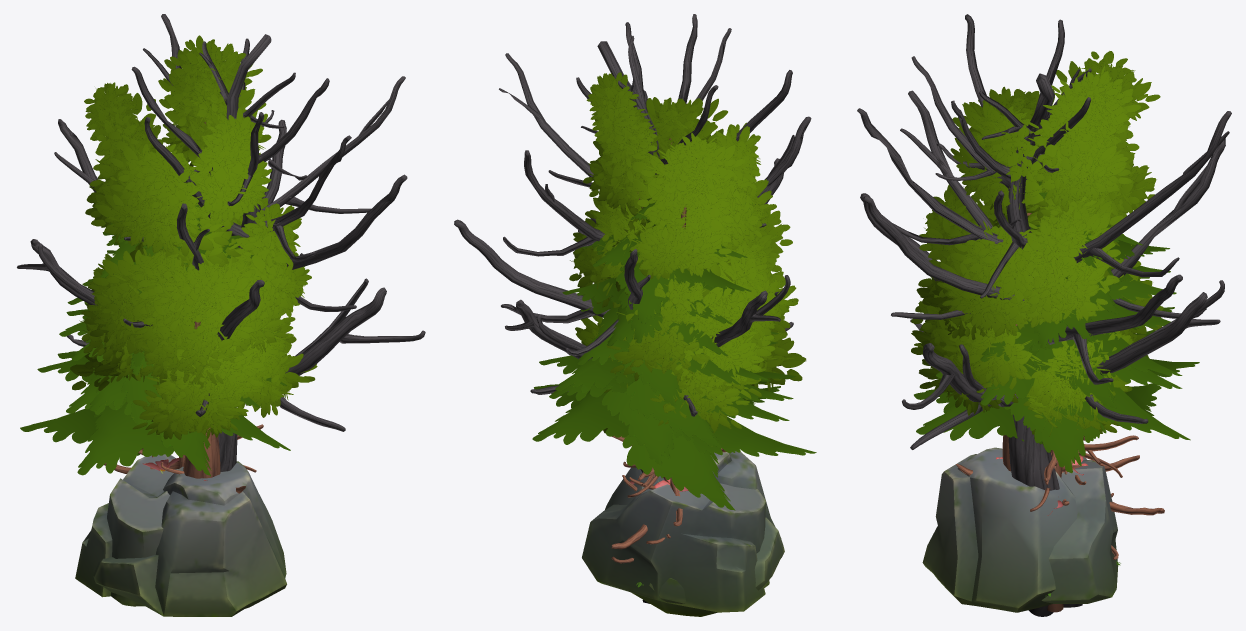
The model's file is nature.glb.
3 renders of one model, left to right at view 1: azimuth 30°, elevation 25°; view 2: azimuth 150°, elevation 25°; view 3: azimuth 270°, elevation 25°, orthographic. The views are drawn at different scales.
Parts seen in each view (by area): view 1: CommonTree_3, CommonTree_1, DeadTree_1, Rock_Medium_1, Pine_1, Rock_Medium_2, Pine_3; view 2: CommonTree_3, Pine_1, CommonTree_1, Rock_Medium_2, DeadTree_1, Pine_3, Rock_Medium_1; view 3: CommonTree_3, DeadTree_1, CommonTree_1, Rock_Medium_1, Pine_1, Rock_Medium_2, Pine_3.
Part boxes in pixels (<box>): CommonTree_3: <box>84,35,311,478</box>; CommonTree_1: <box>70,175,317,439</box>; DeadTree_1: <box>17,14,425,472</box>; Rock_Medium_1: <box>93,461,286,616</box>; Pine_1: <box>20,205,290,493</box>; Rock_Medium_2: <box>75,454,178,606</box>; Pine_3: <box>37,223,286,472</box>; CommonTree_3: <box>575,72,792,401</box>; Pine_1: <box>532,219,816,549</box>; CommonTree_1: <box>569,197,806,433</box>; Rock_Medium_2: <box>582,483,769,612</box>; DeadTree_1: <box>454,14,811,603</box>; Pine_3: <box>549,198,793,563</box>; Rock_Medium_1: <box>605,451,784,616</box>; CommonTree_3: <box>915,51,1160,612</box>; DeadTree_1: <box>857,14,1231,616</box>; CommonTree_1: <box>911,169,1164,611</box>; Rock_Medium_1: <box>922,447,1077,612</box>; Pine_1: <box>914,181,1199,515</box>; Rock_Medium_2: <box>1041,457,1118,603</box>; Pine_3: <box>936,224,1182,560</box>.
Bounding box in the file's own units: 6.15 × 9.52 × 5.75.
Materials: 11 (11 with a texture image).
